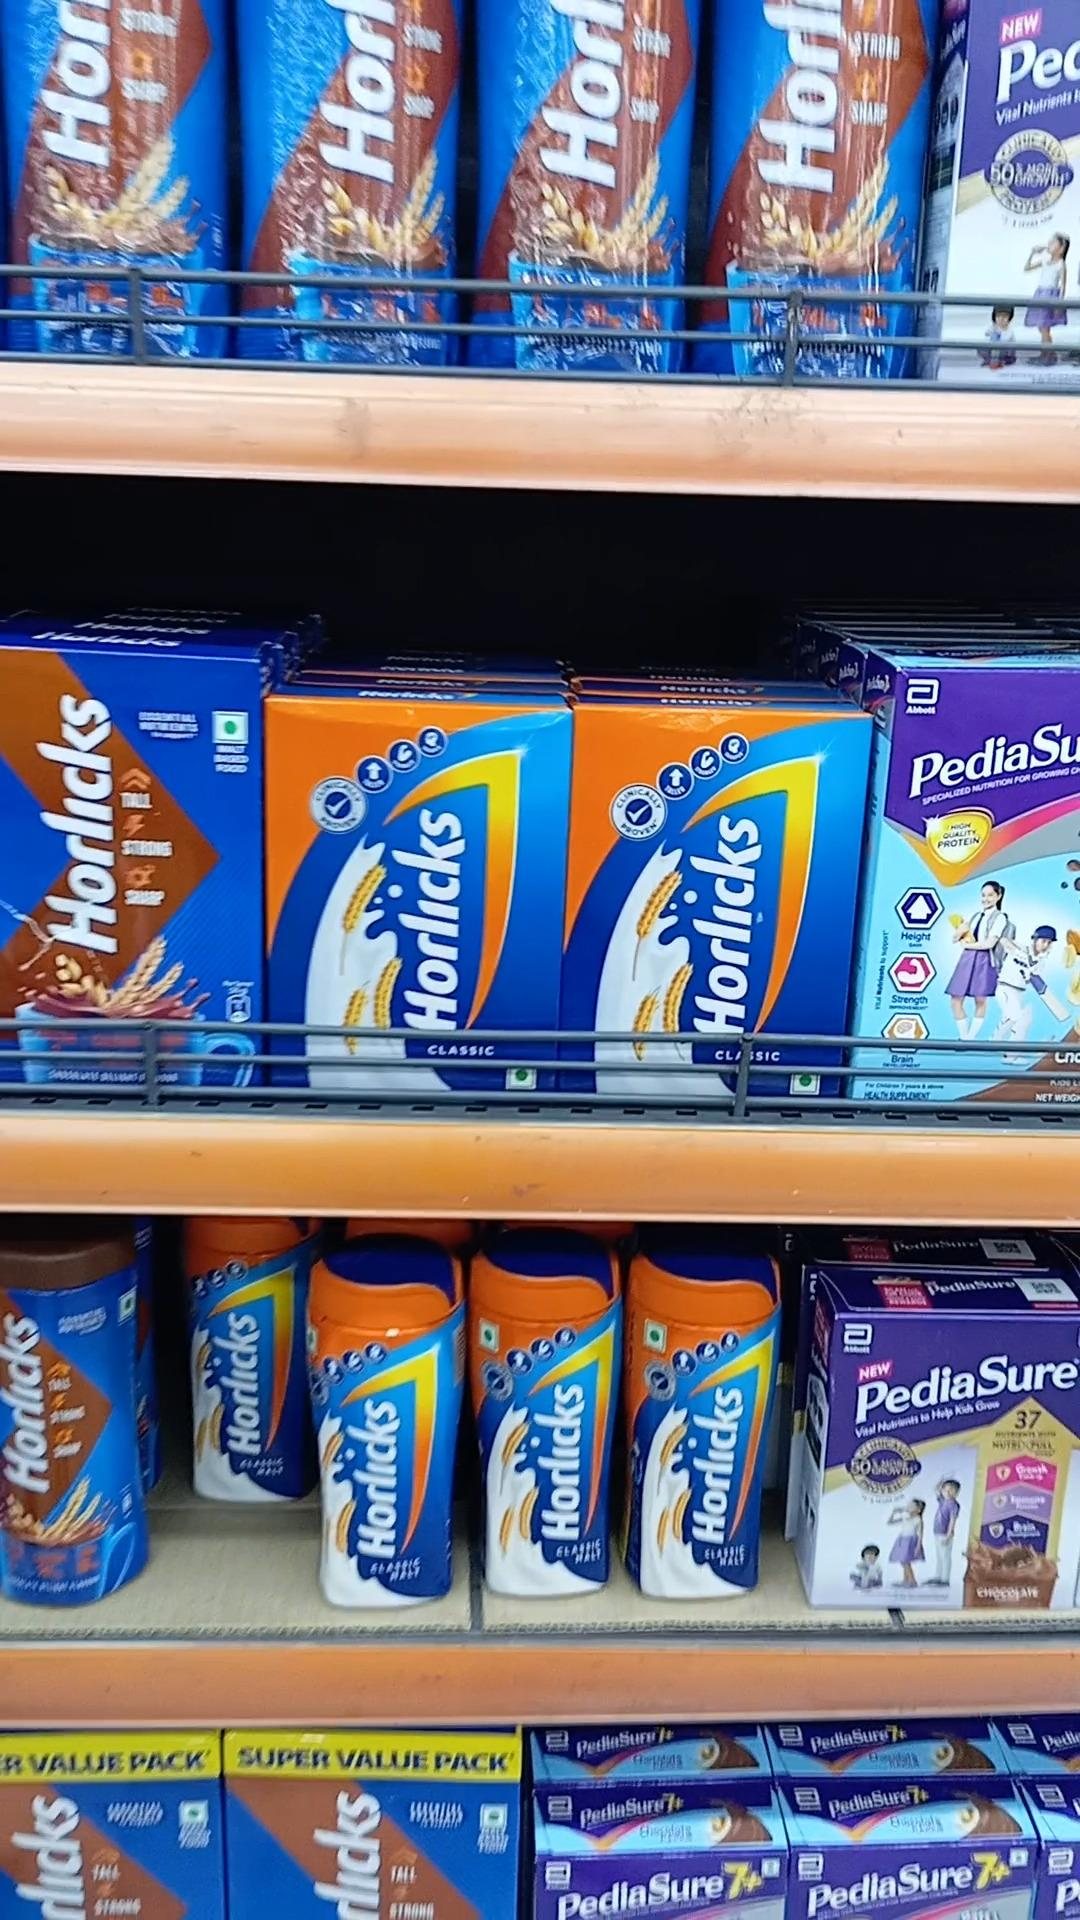HORLICK_CHOCOLATE_500_G_JAR: (0, 1230, 153, 1611)
HORLICK_CLASSIC_MALT_500_G_JAR: (305, 1236, 463, 1611), (622, 1233, 771, 1606), (475, 1225, 611, 1590), (187, 1220, 299, 1509)
HORLICK_CLASSIC_MALT_500_G_PACK: (268, 683, 566, 1126), (575, 712, 835, 1102)
PEDIASURE_CHOCOLATE_500_G_PACK: (820, 1304, 1080, 1609)
